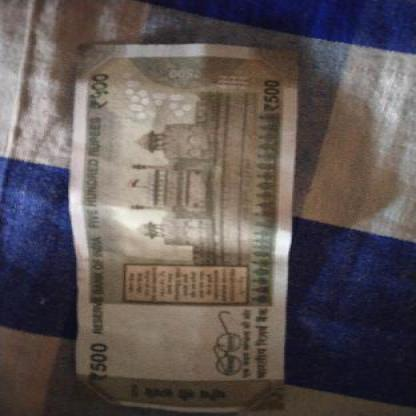New500Back: (69, 48, 291, 414)
